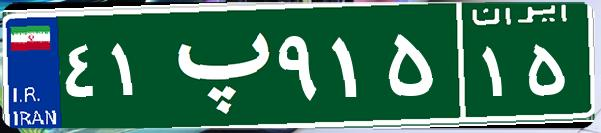1: (330, 28, 385, 110), (475, 38, 525, 113), (110, 28, 158, 105)
4: (57, 26, 110, 107)
5: (385, 28, 445, 110), (525, 38, 570, 115)
9: (273, 28, 330, 110)
پ: (158, 15, 273, 115)
